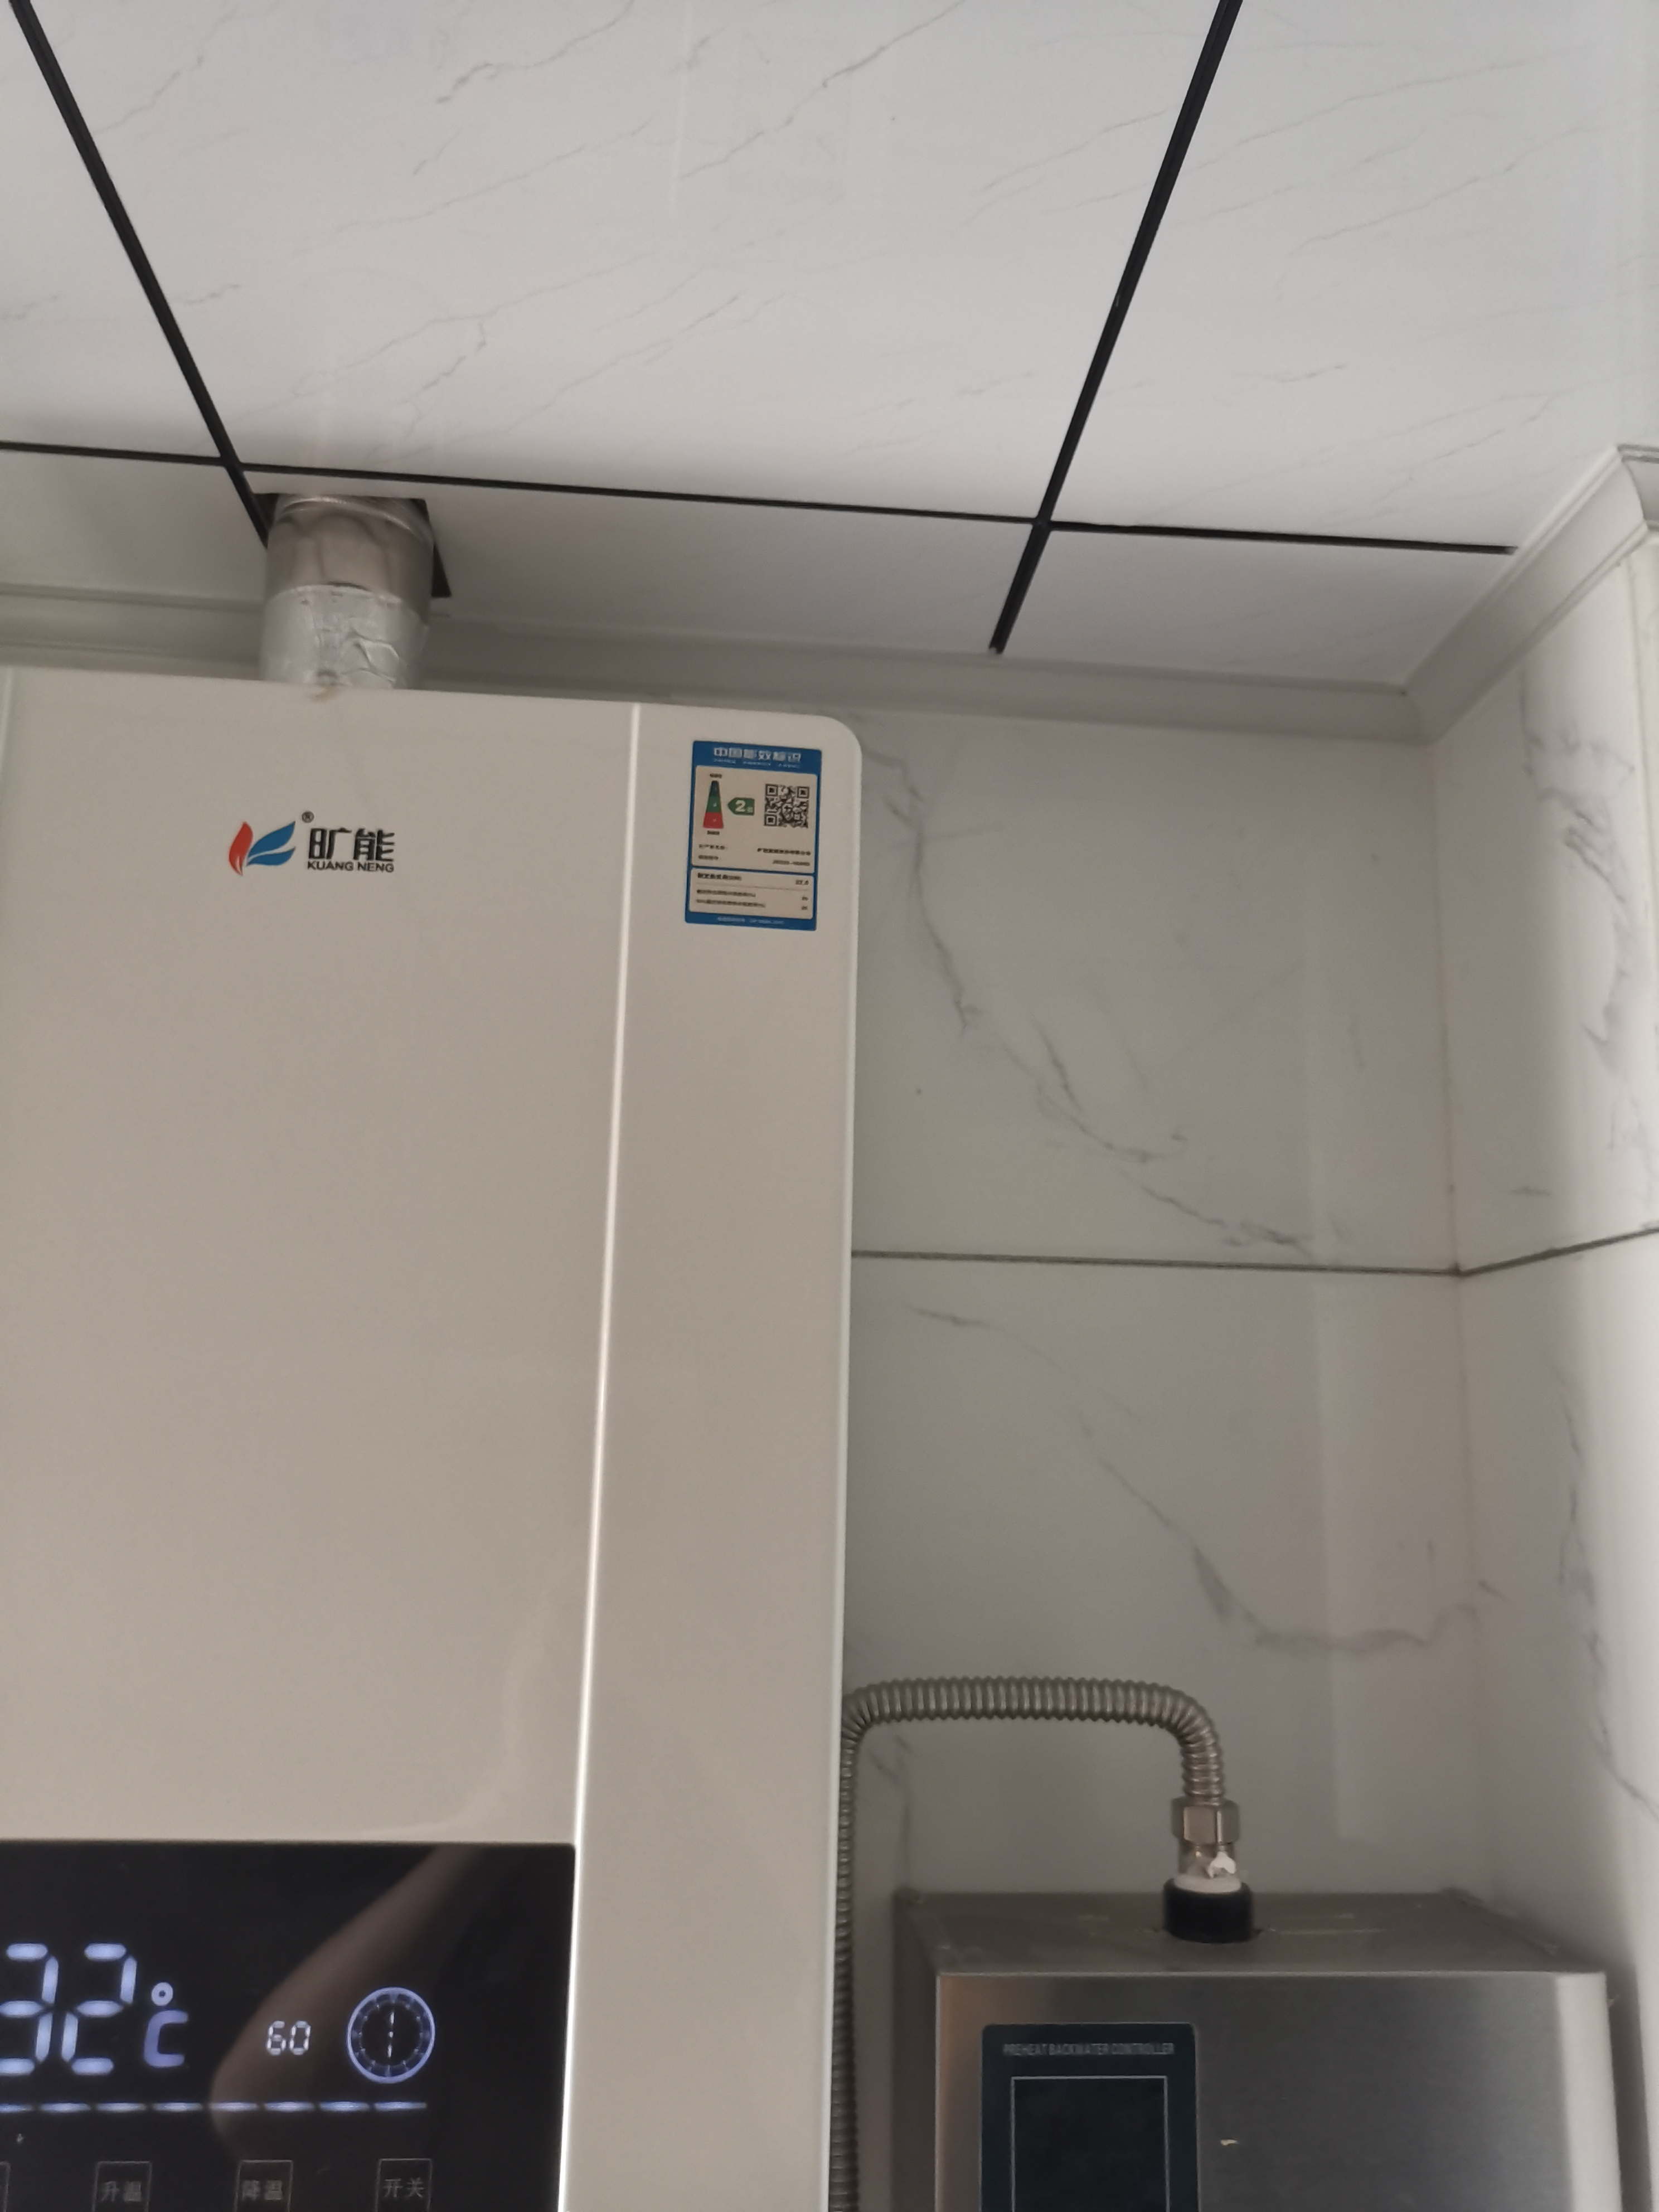loudou: (214, 787, 434, 909)
